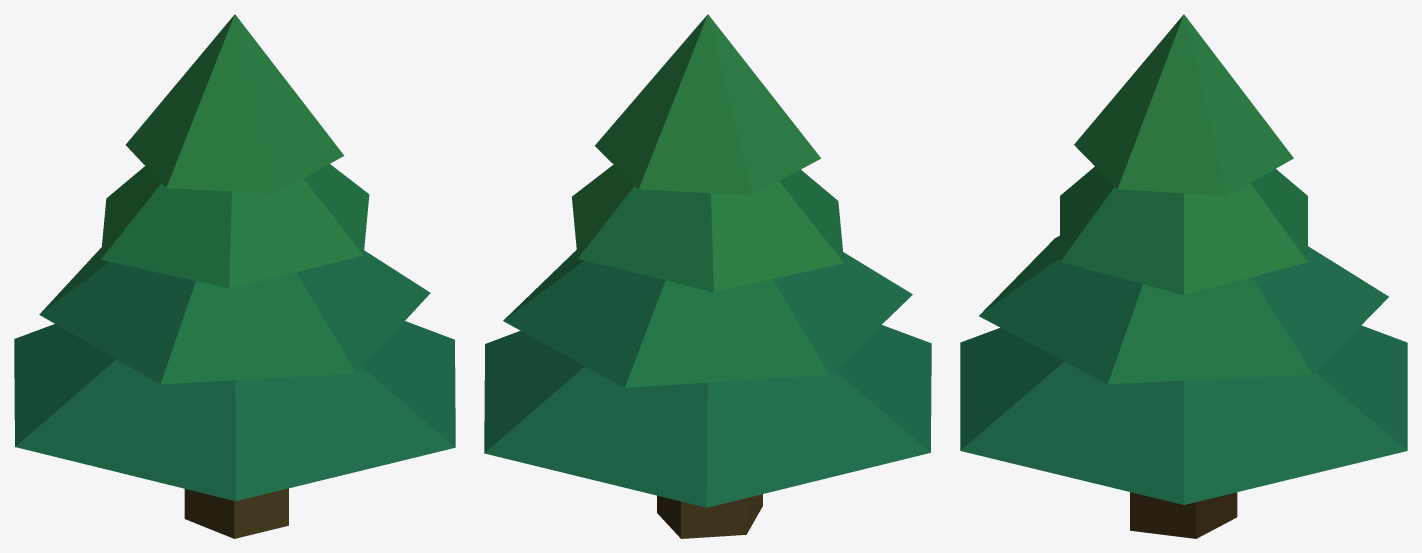
Rendered from Tree_2.gltf.
3 views of the same model, side by side, from view 1: azimuth 30°, elevation 25°; view 2: azimuth 150°, elevation 25°; view 3: azimuth 270°, elevation 25° (orthographic).
Visible parts, largest first — view 1: sphere (×4), cylinder; view 2: sphere (×4), cylinder; view 3: sphere (×4), cylinder.
Boxes of the visible parts, box(x1,y1,x2,y2) form: sphere (×4): box(14, 14, 455, 501); cylinder: box(184, 488, 288, 538); sphere (×4): box(484, 14, 931, 507); cylinder: box(657, 494, 762, 538); sphere (×4): box(960, 14, 1407, 504); cylinder: box(1130, 492, 1237, 538).
Size of the model in its own units: 0.5625 by 0.6094 by 0.491.
1 material, 1 textured.
